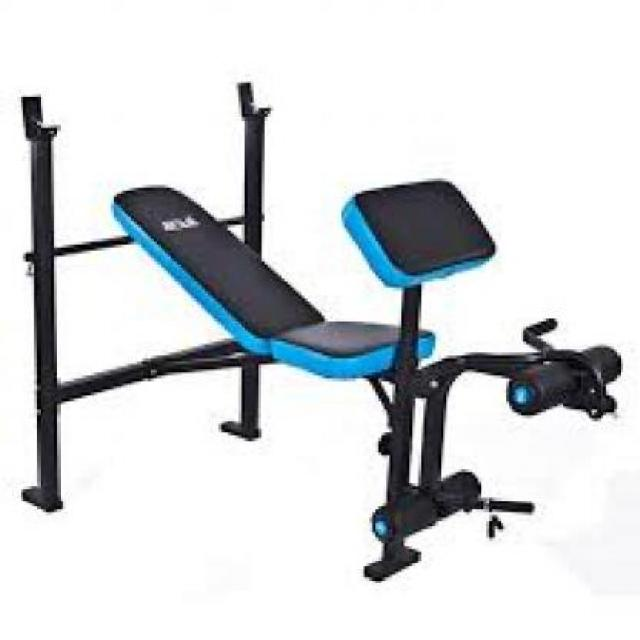arm curl machine: (274, 177, 623, 585)
